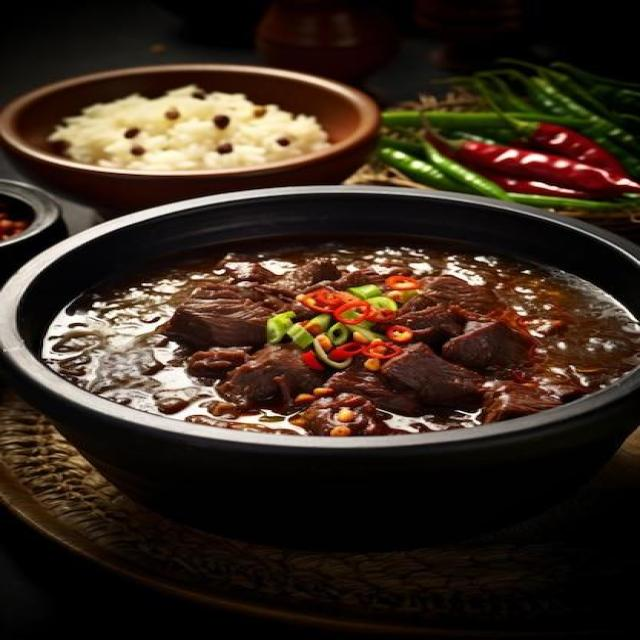Rawon: (61, 232, 624, 428)
